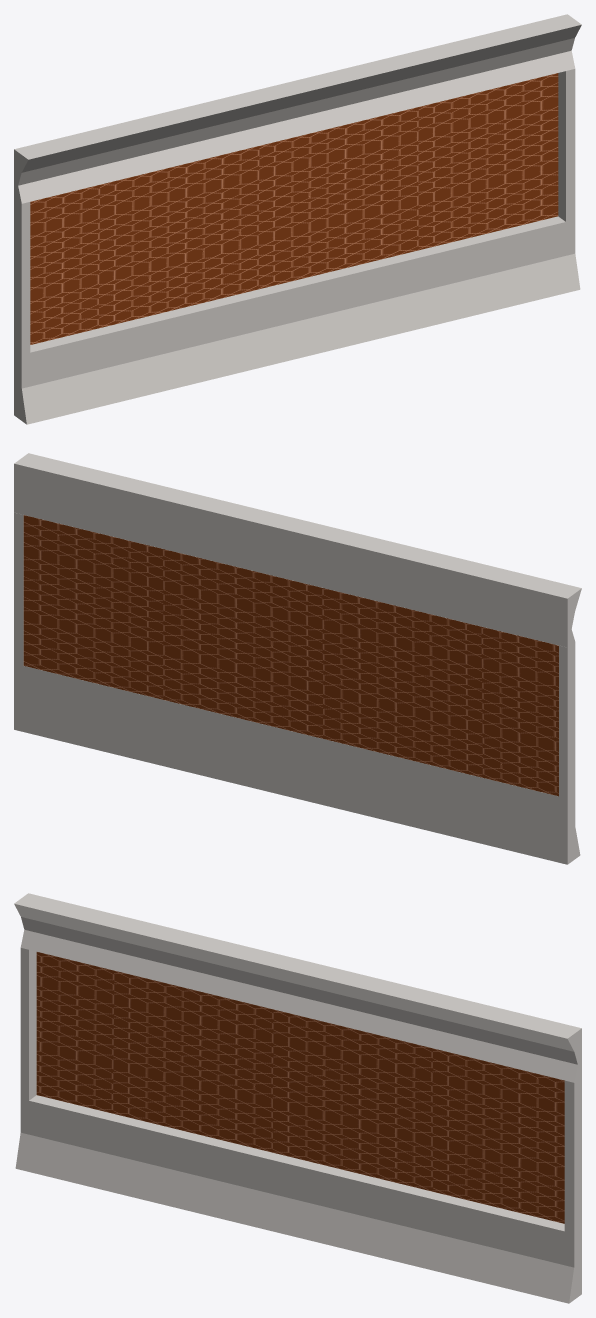
The model's file is wall.glb.
3 views of the same model, one above another, from view 1: azimuth 30°, elevation 25°; view 2: azimuth 150°, elevation 25°; view 3: azimuth 330°, elevation 25° (orthographic).
Visible parts, largest first — view 1: Cube.004; view 2: Cube.004; view 3: Cube.004.
Part boxes in pixels (x1=…): Cube.004: x1=14, y1=14, x2=581, y2=424; Cube.004: x1=14, y1=453, x2=581, y2=864; Cube.004: x1=14, y1=893, x2=581, y2=1303.
Bounding box in the file's own units: 7.04 × 3.23 × 0.3182.
2 materials, 1 textured.
